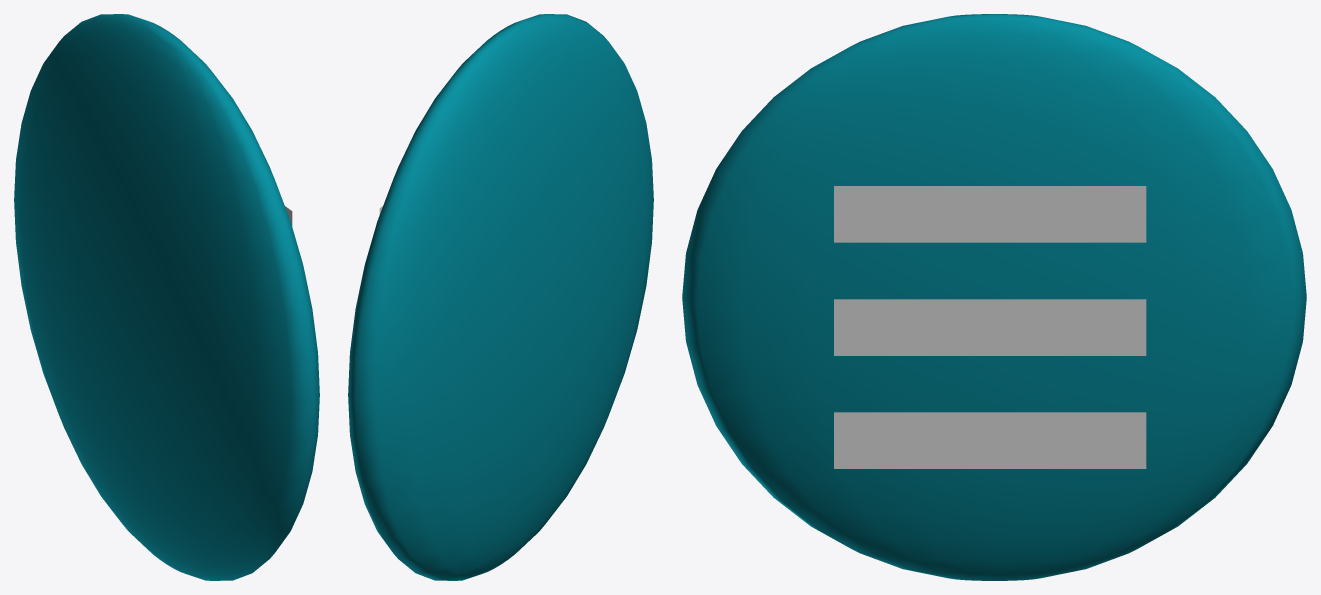
Rendered from sellect.fbx.
3 renders of one model, left to right at view 1: azimuth 30°, elevation 25°; view 2: azimuth 150°, elevation 25°; view 3: azimuth 270°, elevation 25°, orthographic. The views are drawn at different scales.
Parts seen in each view (by area): view 1: pSphere2; view 2: pSphere2; view 3: pSphere2, pCube1.
Part boxes in pixels (x1=…): pSphere2: x1=14, y1=14, x2=319, y2=580; pSphere2: x1=348, y1=14, x2=653, y2=580; pSphere2: x1=682, y1=14, x2=1306, y2=580; pCube1: x1=834, y1=186, x2=1146, y2=468.
Bounding box in the file's own units: 0.3897 × 2 × 2.
